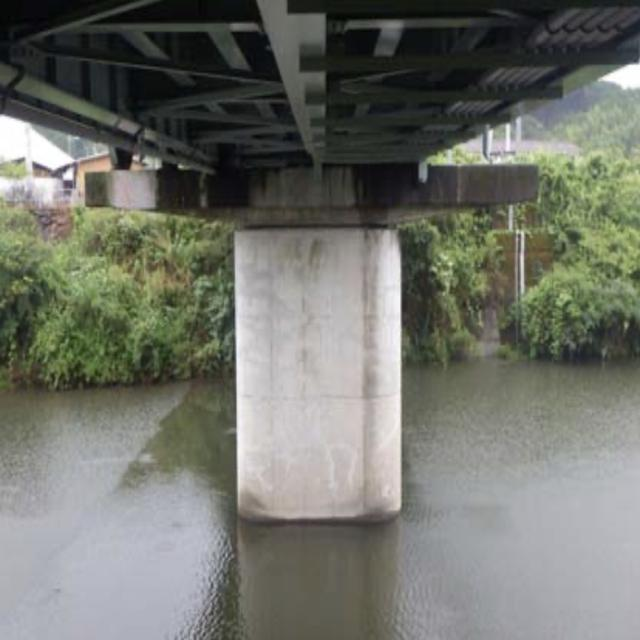leakage: (79, 166, 542, 208)
